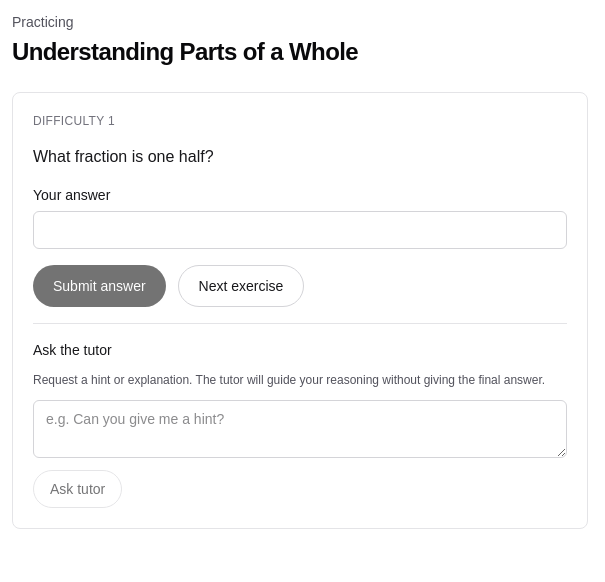
it: PracticeSession › submits an answer to /api/attempts and shows the correctness result
Check: the text "What fraction is one half?" is shown, box [33,148,214,165]
In the field labelled "Your answer": (300, 230) [33,211,567,249], type "1/2"
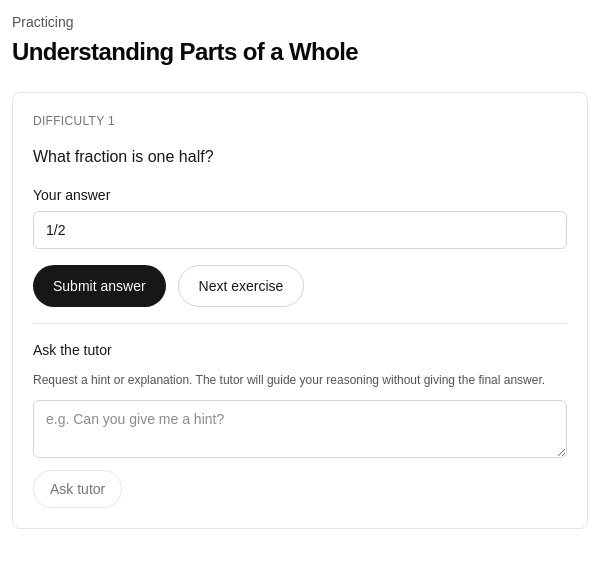
Click the button "Submit answer": (99, 286) [33,265,166,307]
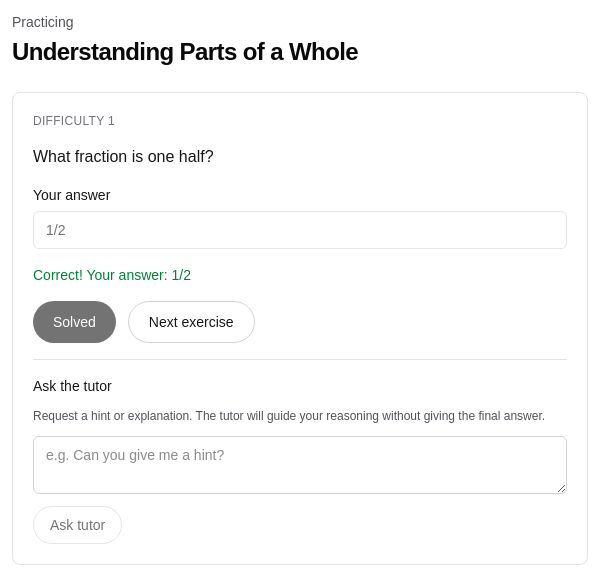
Check: the message reads "Correct! Your answer: 1/2", box [33,267,191,283]
